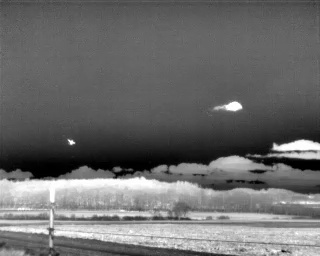DRONE: (64, 134, 79, 150)
